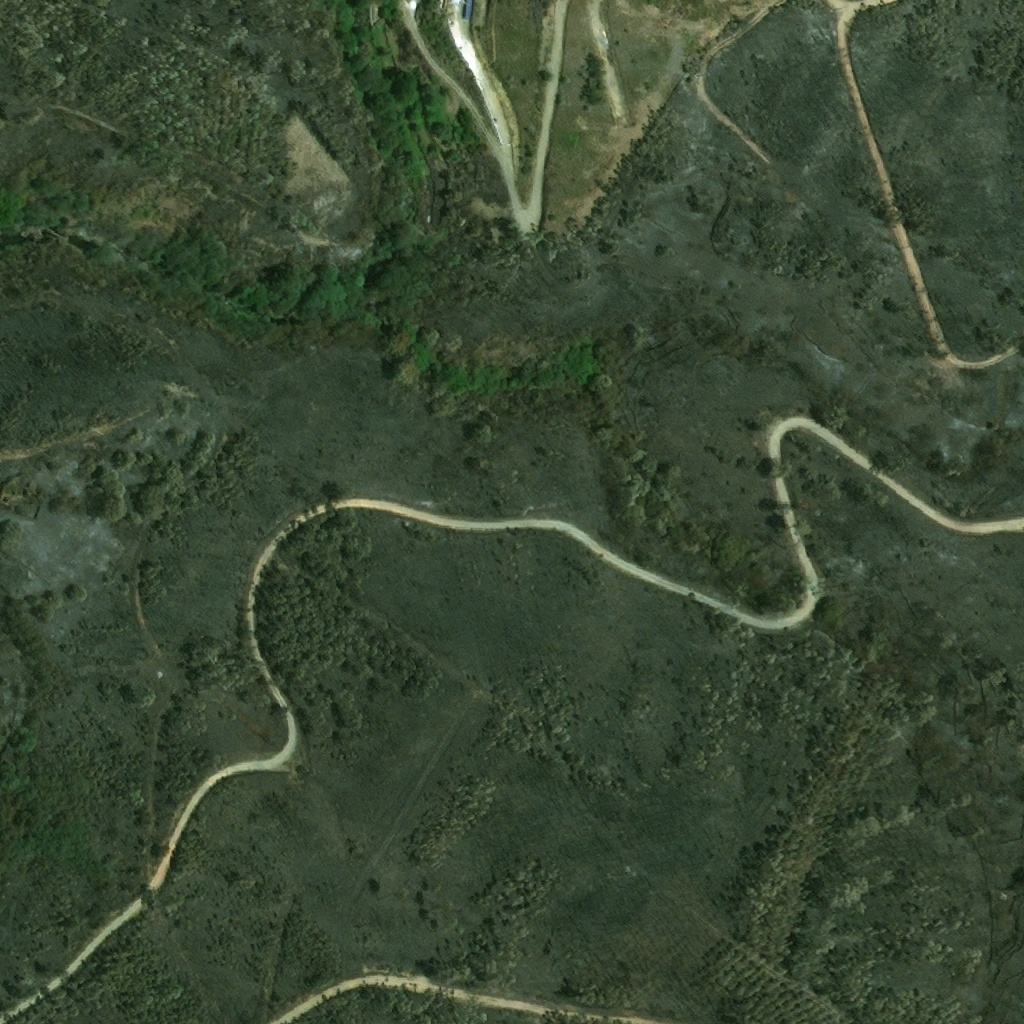4 un-classified: (464, 0, 474, 18)
